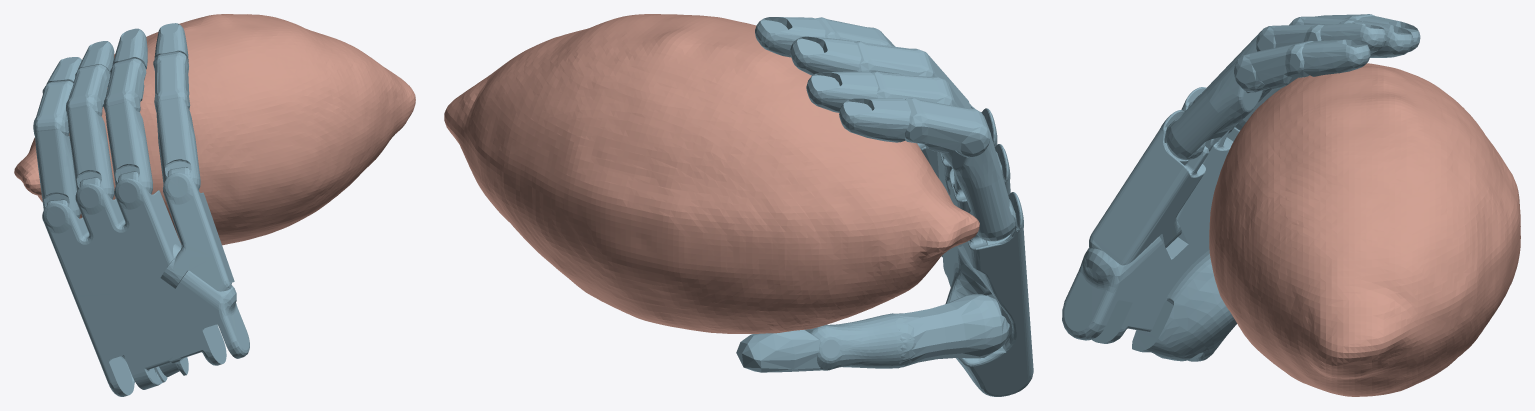
Rendered from 10_joint.glb.
3 views of the same model, side by side, from view 1: azimuth 30°, elevation 25°; view 2: azimuth 150°, elevation 25°; view 3: azimuth 270°, elevation 25° (orthographic). The views are drawn at different scales.
Parts seen in each view (by area): view 1: world; view 2: world; view 3: world.
Part boxes in pixels (x1,y1,x2,y2): world: (14,14,415,396); world: (444,14,1033,396); world: (1062,14,1520,396).
Bounding box in the file's own units: 1.62 × 1.16 × 1.24.
